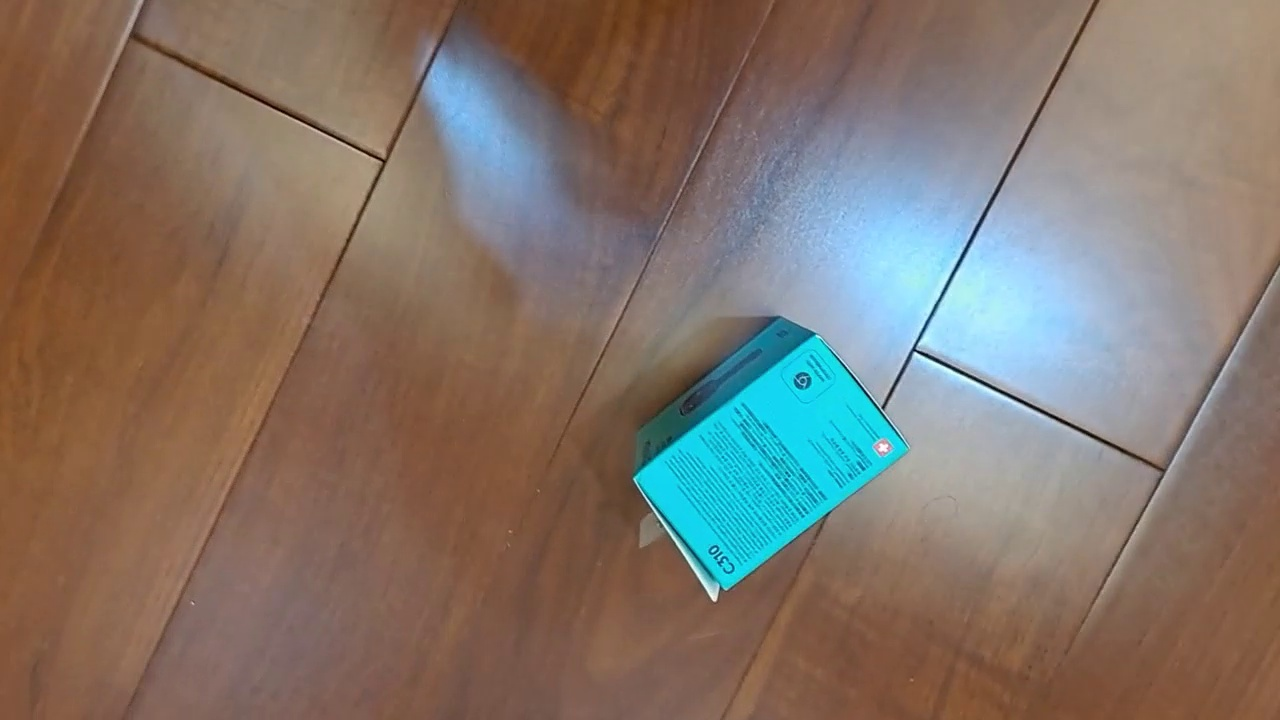webcam: (632, 315, 912, 603)
